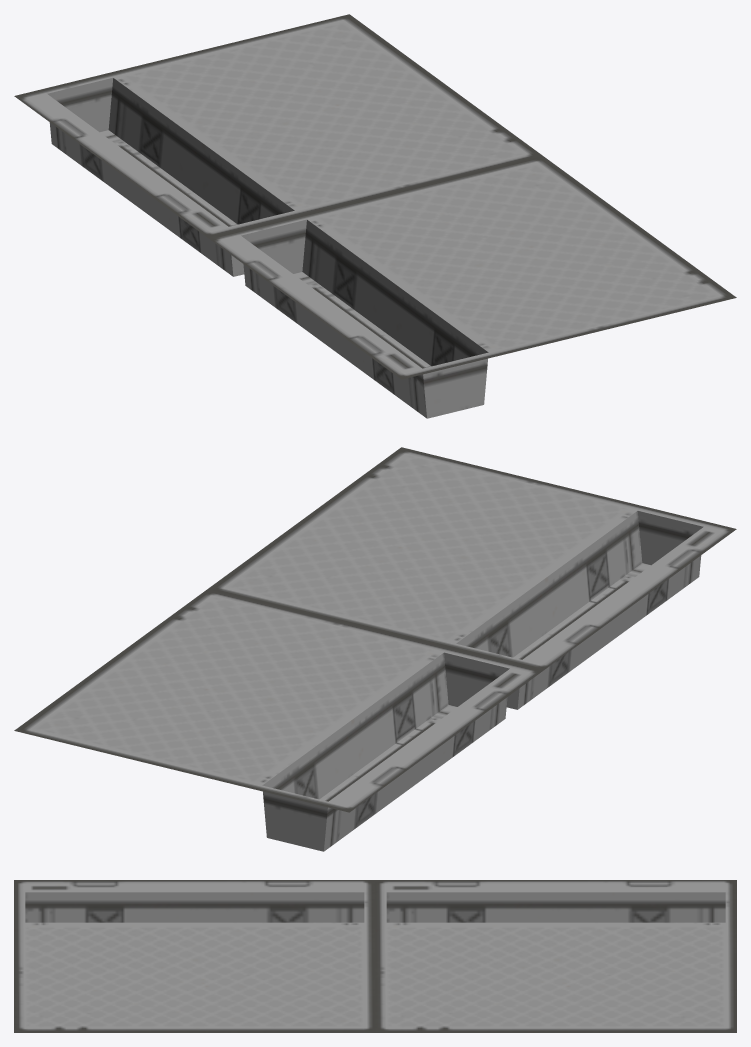
Rendered from A_Floor_2_2x4.FBX.
3 renders of one model, top to bottom at view 1: azimuth 30°, elevation 25°; view 2: azimuth 150°, elevation 25°; view 3: azimuth 270°, elevation 25°, orthographic. The views are drawn at different scales.
Parts seen in each view (by area): view 1: A_Floor_2_2x4; view 2: A_Floor_2_2x4; view 3: A_Floor_2_2x4.
Boxes of the visible parts, x1,y1,x2,y2 form: A_Floor_2_2x4: (14,14,736,418); A_Floor_2_2x4: (14,447,736,851); A_Floor_2_2x4: (14,880,736,1032).
Size of the model in its own units: 200 by 29.19 by 400.
